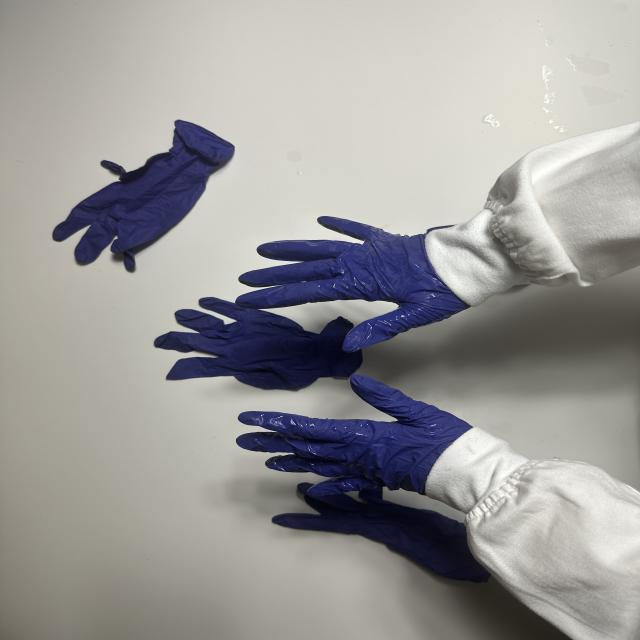gloves_contaminated: (236, 217, 468, 352), (237, 375, 471, 495)
